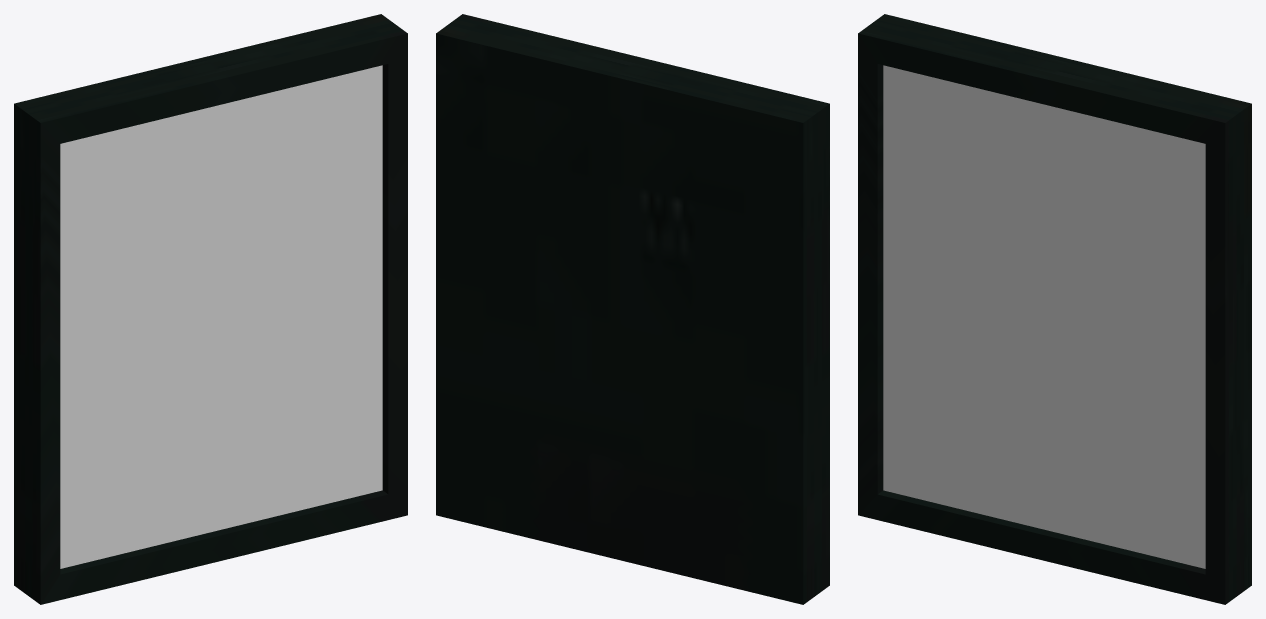
Rendered from Mirror.fbx.
The picture shows the model from 3 angles, left to right: view 1: azimuth 30°, elevation 25°; view 2: azimuth 150°, elevation 25°; view 3: azimuth 330°, elevation 25°; orthographic projection.
Parts seen in each view (by area): view 1: Mirror, Base; view 2: Base; view 3: Mirror, Base.
Boxes of the visible parts, <box> form: Mirror: <box>60,65,382,568</box>; Base: <box>14,14,407,604</box>; Base: <box>436,14,829,604</box>; Mirror: <box>883,65,1205,568</box>; Base: <box>858,14,1251,604</box>.
Bounding box in the file's own units: 798 × 1000 × 100.
